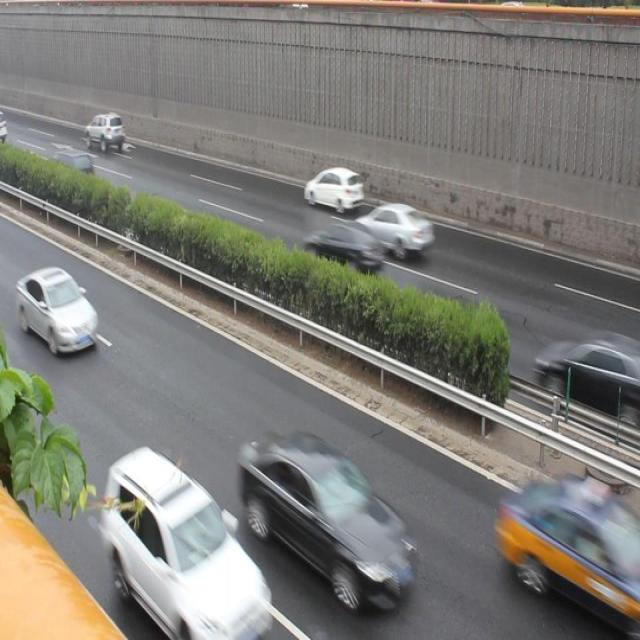car: (242, 420, 419, 609), (102, 451, 264, 640), (494, 466, 640, 640), (539, 324, 630, 419), (12, 266, 100, 353), (302, 217, 382, 284), (358, 196, 431, 258), (303, 164, 364, 215), (47, 144, 95, 188), (82, 108, 124, 154)
